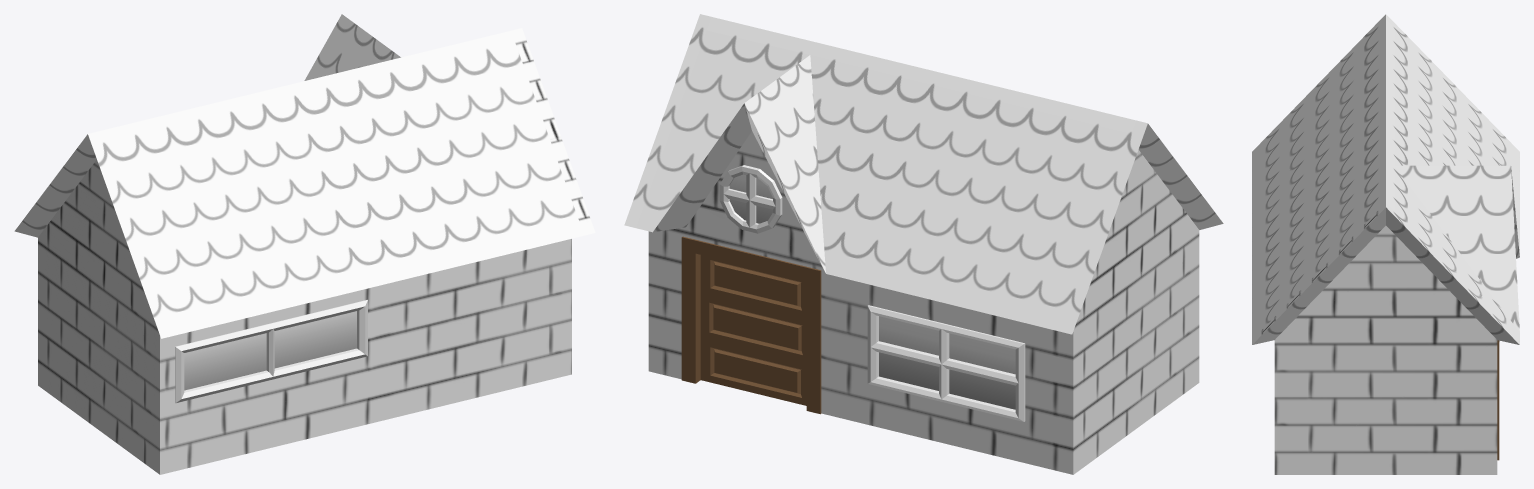
The model's file is SimpleHouseBrickTexture.fbx.
3 renders of one model, left to right at view 1: azimuth 30°, elevation 25°; view 2: azimuth 150°, elevation 25°; view 3: azimuth 270°, elevation 25°, orthographic. The views are drawn at different scales.
Visible parts, largest first — view 1: House Cmbnined.001; view 2: House Cmbnined.001; view 3: House Cmbnined.001.
Part boxes in pixels (x1,y1,x2,y2): House Cmbnined.001: [14, 14, 595, 474]; House Cmbnined.001: [624, 14, 1223, 474]; House Cmbnined.001: [1252, 14, 1519, 474].
Bounding box in the file's own units: 5.53 × 3.24 × 3.64.
Materials: 5 (3 with a texture image).
